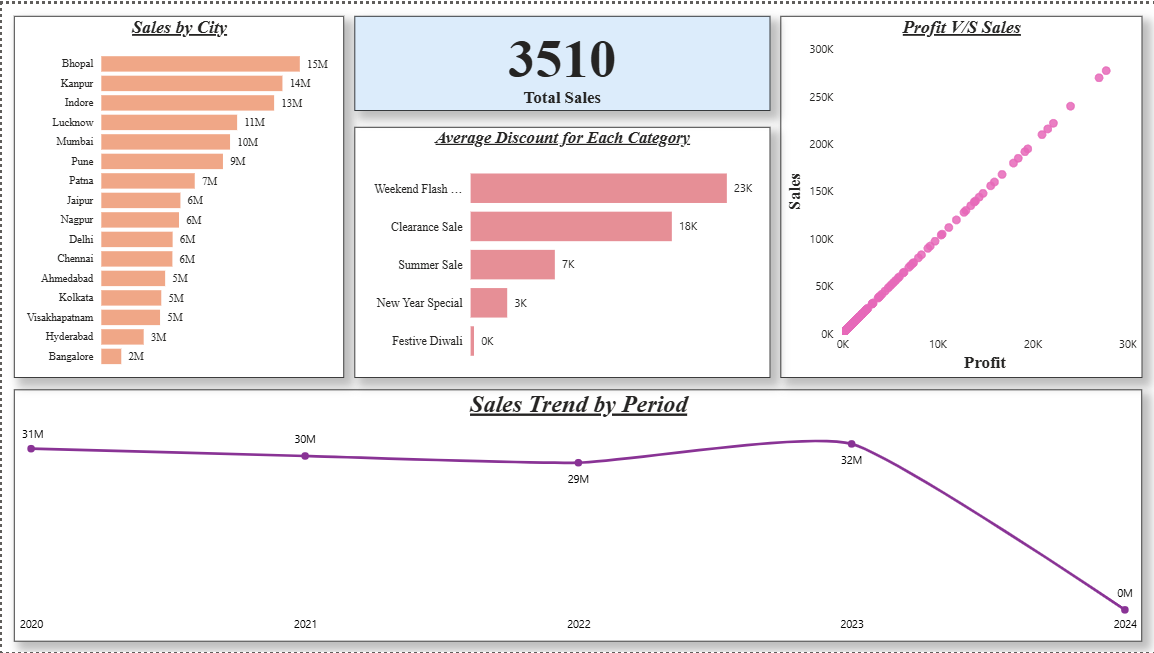

What the dashboard file says about the page in this screenshot:
{"tool":"powerbi","page":{"name":"Overview","canvas":[1280,720],"ordinal":0},"visuals":[{"type":"lineChart","title":"Sales Trend by Period","fields":{"Category":["Fact Table.Date (dd/mm/yyyy)"],"Y":["Sum(Fact Table.Net Sales  )"]},"box":[13.3,428.3,1253.3,280],"z":0},{"type":"scatterChart","title":"Profit V/S Sales  ","fields":{"Y":["Fact Table.Net Sales  "],"X":["Fact Table.Profit"]},"box":[865,13.3,401.7,401.7],"z":1000},{"type":"barChart","title":"Sales by City","fields":{"Category":["Dim Customers.City"],"Y":["Sum(Fact Table.Net Sales  )"]},"box":[13.3,13.3,366.7,401.7],"z":2000},{"type":"barChart","title":"Average Discount for Each Category","fields":{"Category":["Dim Promotion.Promotion Name"],"Y":["Avg(Fact Table.Discount Value)"]},"box":[391.7,136.7,461.7,278.3],"z":3000},{"type":"card","fields":{"Values":["CountNonNull(Fact Table.OrderID)"]},"box":[391.7,13.3,461.7,105],"z":4000}]}

Visuals, with their boxes in screenshot pixels (x1, y1, x2, y2), scaled from the page's 1280x720 canvas onto the 1154x653 screenshot:
"Sales Trend by Period" lineChart: <bbox>12, 388, 1142, 642</bbox>
"Profit V/S Sales  " scatterChart: <bbox>780, 12, 1142, 376</bbox>
"Sales by City" barChart: <bbox>12, 12, 343, 376</bbox>
"Average Discount for Each Category" barChart: <bbox>353, 124, 769, 376</bbox>
card - CountNonNull(Fact Table.OrderID): <bbox>353, 12, 769, 107</bbox>
